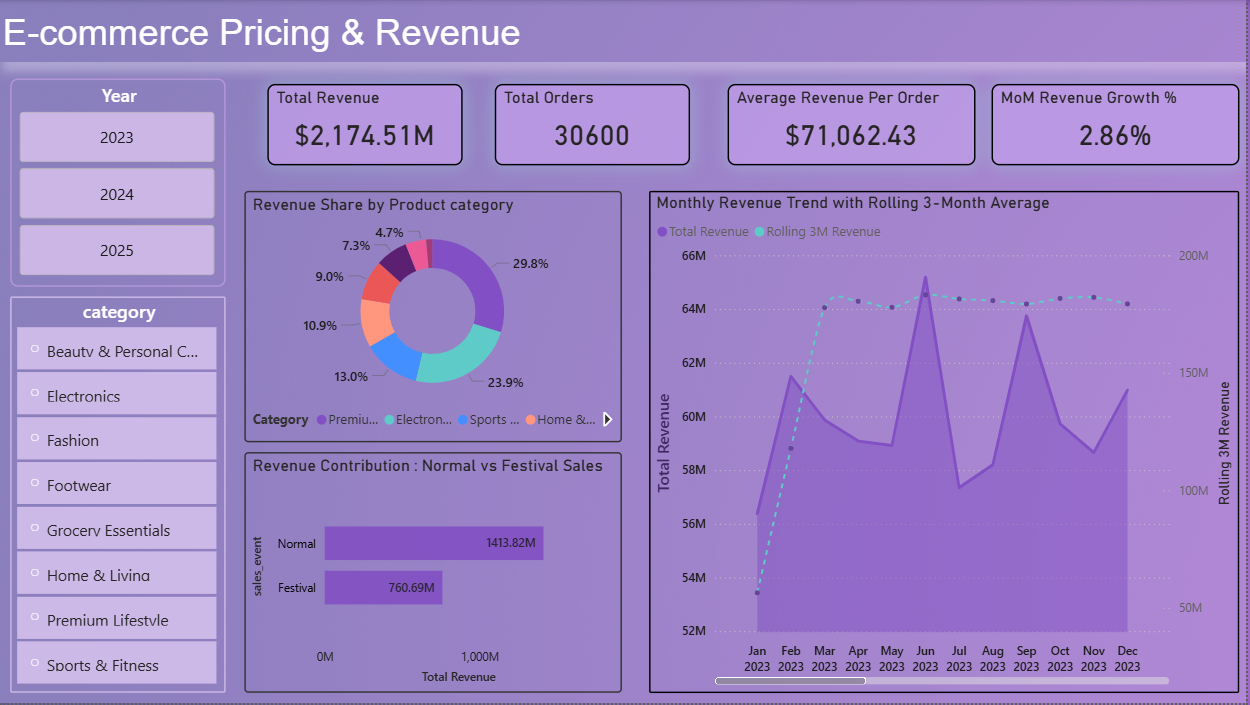

Layout of this report page (visuals, bound fields, positions):
{"tool":"powerbi","page":{"name":"Executive Overview","canvas":[1280,720],"ordinal":0},"visuals":[{"type":"card","title":"Total Revenue","fields":{"Values":["Sum(ecommerce_analytics ecommerce_pricing_revenue.revenue)"]},"box":[276.2,86.1,199.9,83.3],"z":0},{"type":"textbox","box":[0,0,1279.7,63.8],"z":1000},{"type":"card","title":"Total Orders","fields":{"Values":["Count(ecommerce_analytics ecommerce_pricing_revenue.order_id)"]},"box":[509.4,86.1,199.9,83.3],"z":2000},{"type":"card","title":"Average Revenue Per Order","fields":{"Values":["ecommerce_analytics ecommerce_pricing_revenue.Average Revenue per Order"]},"box":[747.7,85.7,254,83.3],"z":3000},{"type":"card","title":"MoM Revenue Growth %","fields":{"Values":["ecommerce_analytics ecommerce_pricing_revenue.MoM Revenue Growth %"]},"box":[1018.7,85.7,254.2,83.4],"z":4000},{"type":"lineChart","title":"Monthly Revenue Trend with Rolling 3-Month Average","fields":{"Category":["DateTable.Month Year"],"Y":["ecommerce_analytics ecommerce_pricing_revenue.Total Revenue"],"Y2":["ecommerce_analytics ecommerce_pricing_revenue.Rolling 3M Revenue"]},"box":[667.6,195.7,605.1,514.9],"z":5000},{"type":"advancedSlicerVisual","fields":{"Values":["DateTable.Year"]},"box":[12.5,80.5,220.7,213.7],"z":6000},{"type":"listSlicer","fields":{"Values":["ecommerce_analytics ecommerce_pricing_revenue.category"]},"box":[12.5,304,220.7,406.7],"z":7000},{"type":"donutChart","title":"Revenue Share by Product category","fields":{"Category":["ecommerce_analytics ecommerce_pricing_revenue.category"],"Y":["ecommerce_analytics ecommerce_pricing_revenue.Total Revenue"]},"box":[252.6,195.7,387.2,258.2],"z":8000},{"type":"barChart","title":"Revenue Contribution : Normal vs Festival Sales","fields":{"Category":["ecommerce_analytics ecommerce_pricing_revenue.sales_event"],"Y":["ecommerce_analytics ecommerce_pricing_revenue.Total Revenue"]},"box":[252.6,463.6,387.2,247],"z":9000}]}

Visuals, with their boxes in screenshot pixels (x1, y1, x2, y2), scaled from the page's 1280x720 canvas onto the 1250x705 screenshot:
"Total Revenue" card: (270,84,465,166)
textbox: (0,0,1249,62)
"Total Orders" card: (497,84,693,166)
"Average Revenue Per Order" card: (730,84,978,165)
"MoM Revenue Growth %" card: (995,84,1243,166)
"Monthly Revenue Trend with Rolling 3-Month Average" lineChart: (652,192,1243,696)
advancedSlicerVisual - DateTable.Year: (12,79,228,288)
listSlicer - ecommerce_analytics ecommerce_pricing_revenue.category: (12,298,228,696)
"Revenue Share by Product category" donutChart: (247,192,625,444)
"Revenue Contribution : Normal vs Festival Sales" barChart: (247,454,625,696)
